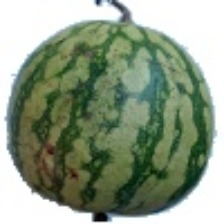watermelon: (44, 0, 218, 191)
